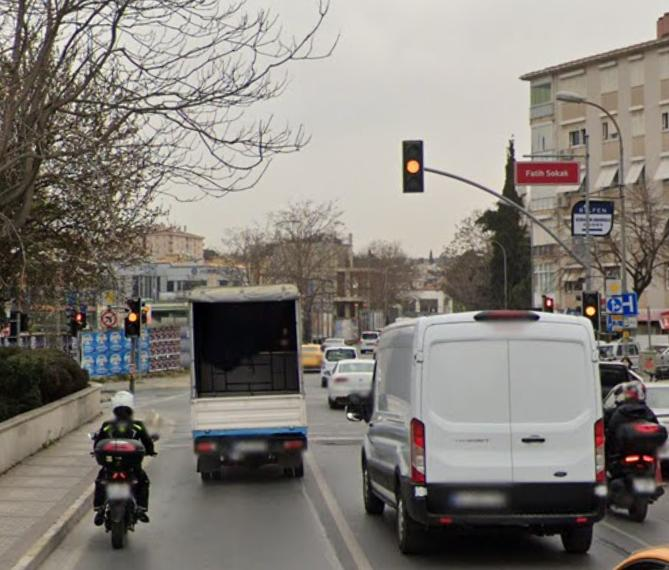leftturnsareforbidden: (580, 290, 599, 325), (99, 310, 116, 328)
yellowlight: (402, 142, 424, 196), (124, 299, 140, 341)
